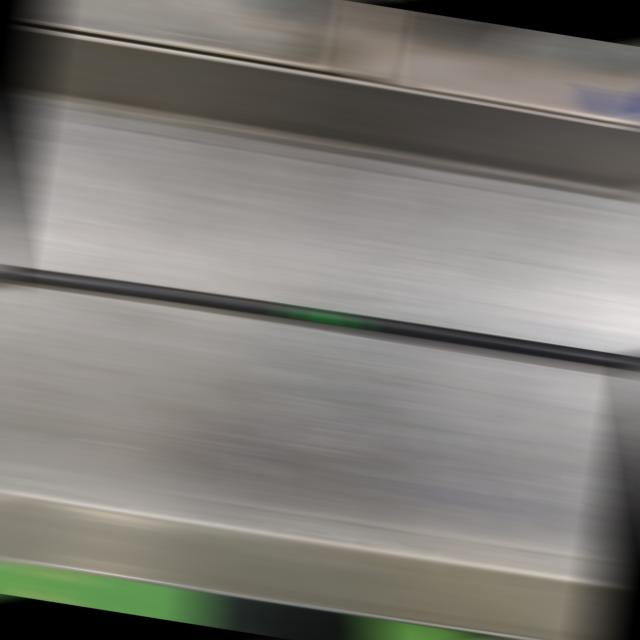green: (290, 304, 359, 329)
